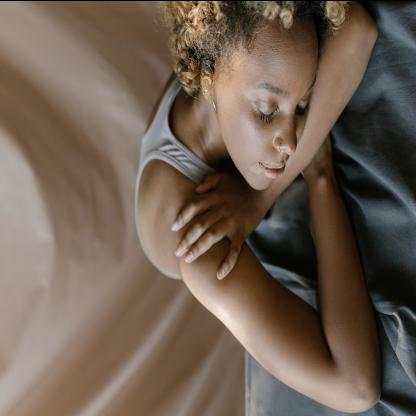Eye: (252, 99, 278, 119), (296, 95, 310, 113)
Mouth: (258, 160, 287, 178)
Nose: (272, 111, 297, 155)
